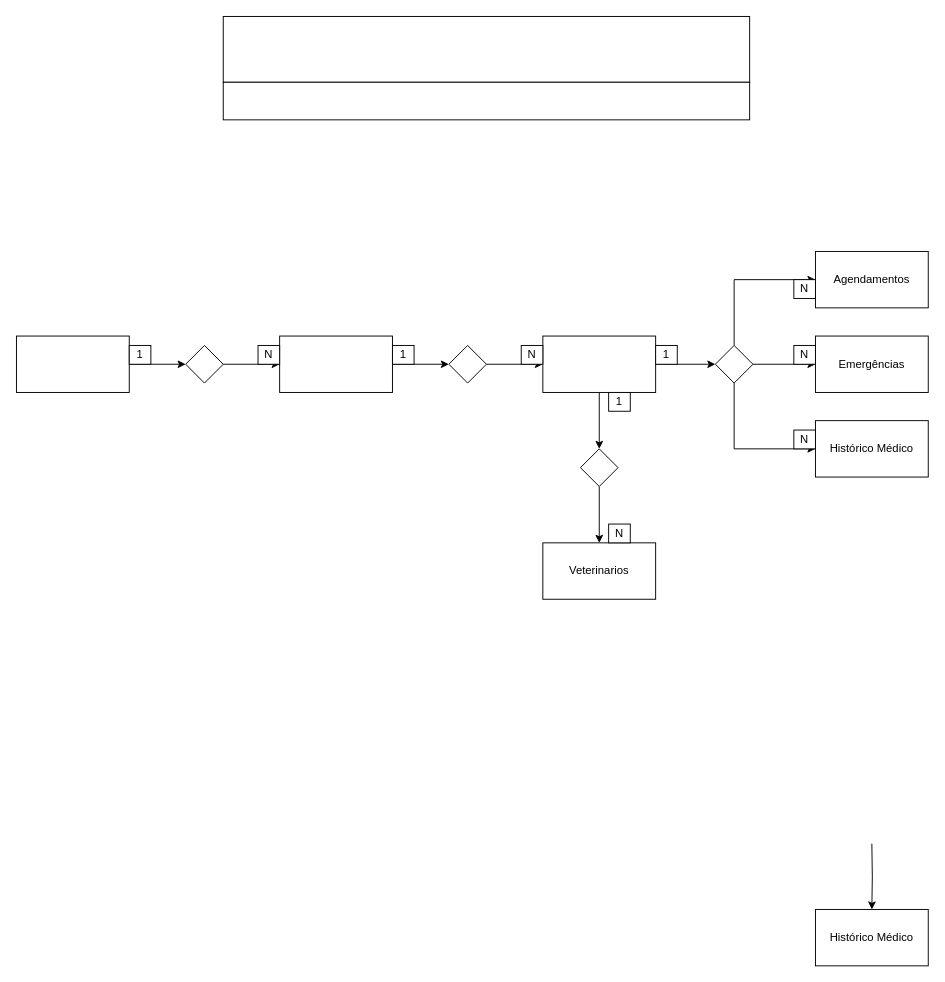
Some shapes in this 945 by 982 pixel diagram are drawn without their labels. The shapes that lost their labels are listed below. From the top down, each one's box as (x1, y1, x2, y2) in pixels, then its label:
(222, 16, 750, 82): Diagrama Conceitual
(222, 81, 750, 120): Sistema de Consultas Veterinarias
(16, 335, 129, 392): Proprietários
(279, 335, 392, 392): Animais
(542, 335, 656, 392): Consultas
